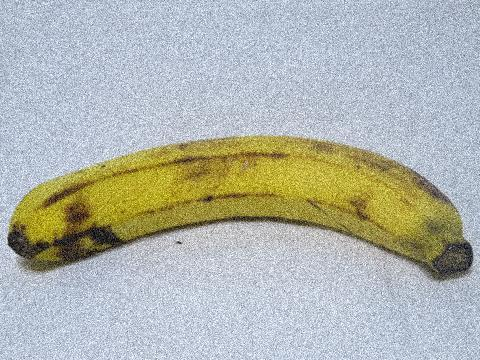ripe: (5, 118, 476, 287)
